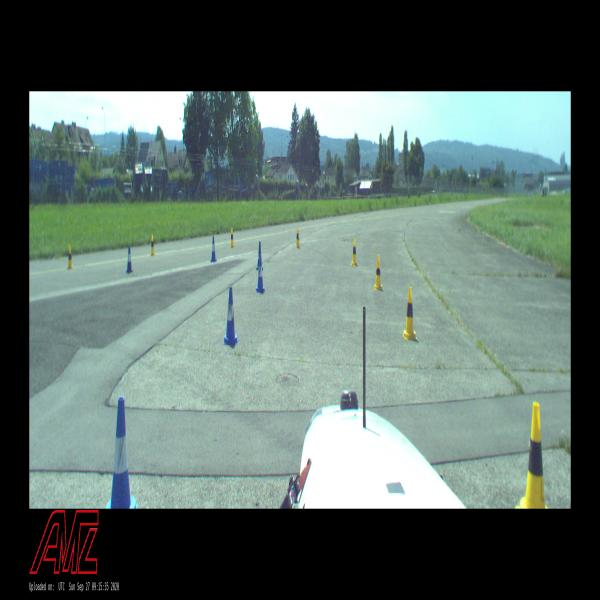blue_cone: (106, 397, 138, 509), (223, 287, 238, 346), (256, 254, 265, 294), (256, 241, 263, 271), (126, 246, 133, 273), (210, 236, 216, 262)
yellow_cone: (515, 402, 548, 509), (403, 287, 417, 340), (374, 255, 383, 290), (350, 239, 358, 266), (67, 245, 74, 270), (150, 234, 155, 256), (295, 227, 300, 248), (230, 228, 235, 248)
